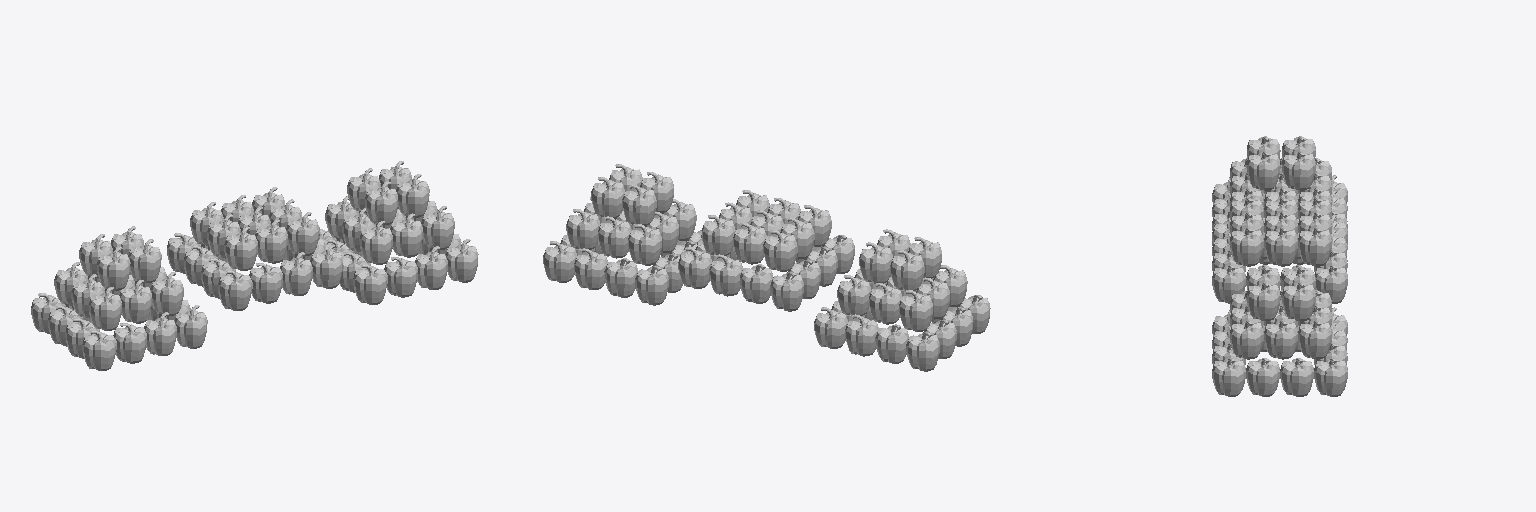
File: PepperPile.obj
3 renders of one model, left to right at view 1: azimuth 30°, elevation 25°; view 2: azimuth 150°, elevation 25°; view 3: azimuth 270°, elevation 25°, orthographic.
Parts seen in each view (by area): view 1: greenPepper; view 2: greenPepper; view 3: greenPepper.
Boxes of the visible parts, <box> form: greenPepper: <box>31,161,478,370</box>; greenPepper: <box>543,164,990,371</box>; greenPepper: <box>1212,136,1347,396</box>.
Bounding box in the file's own units: 32.05 × 7.6 × 9.6.